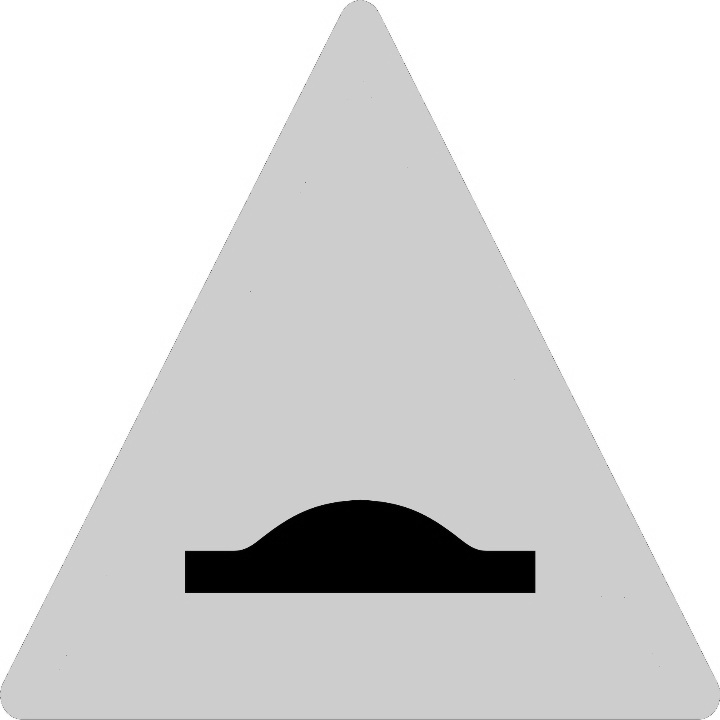bump: (143, 464, 575, 617)
